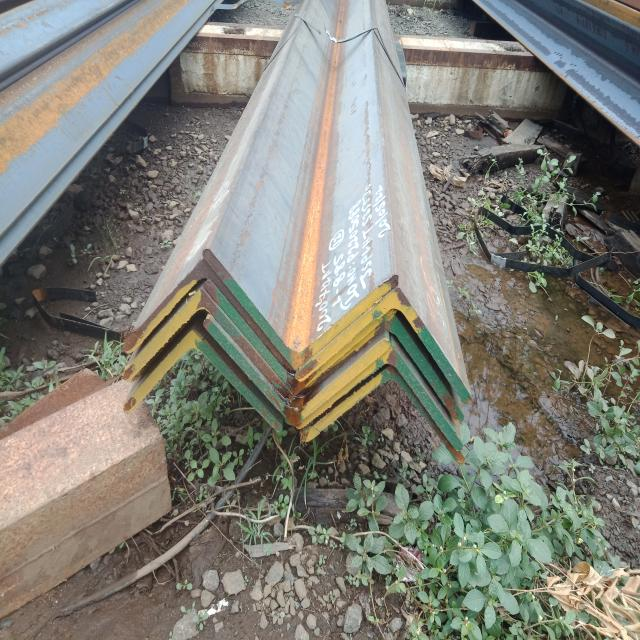metal-angles: (203, 249, 399, 371), (204, 279, 393, 396), (294, 286, 473, 405), (121, 258, 296, 374), (203, 319, 391, 426), (123, 288, 295, 403), (291, 344, 463, 451), (296, 314, 464, 423), (123, 328, 283, 431), (300, 365, 465, 463)
